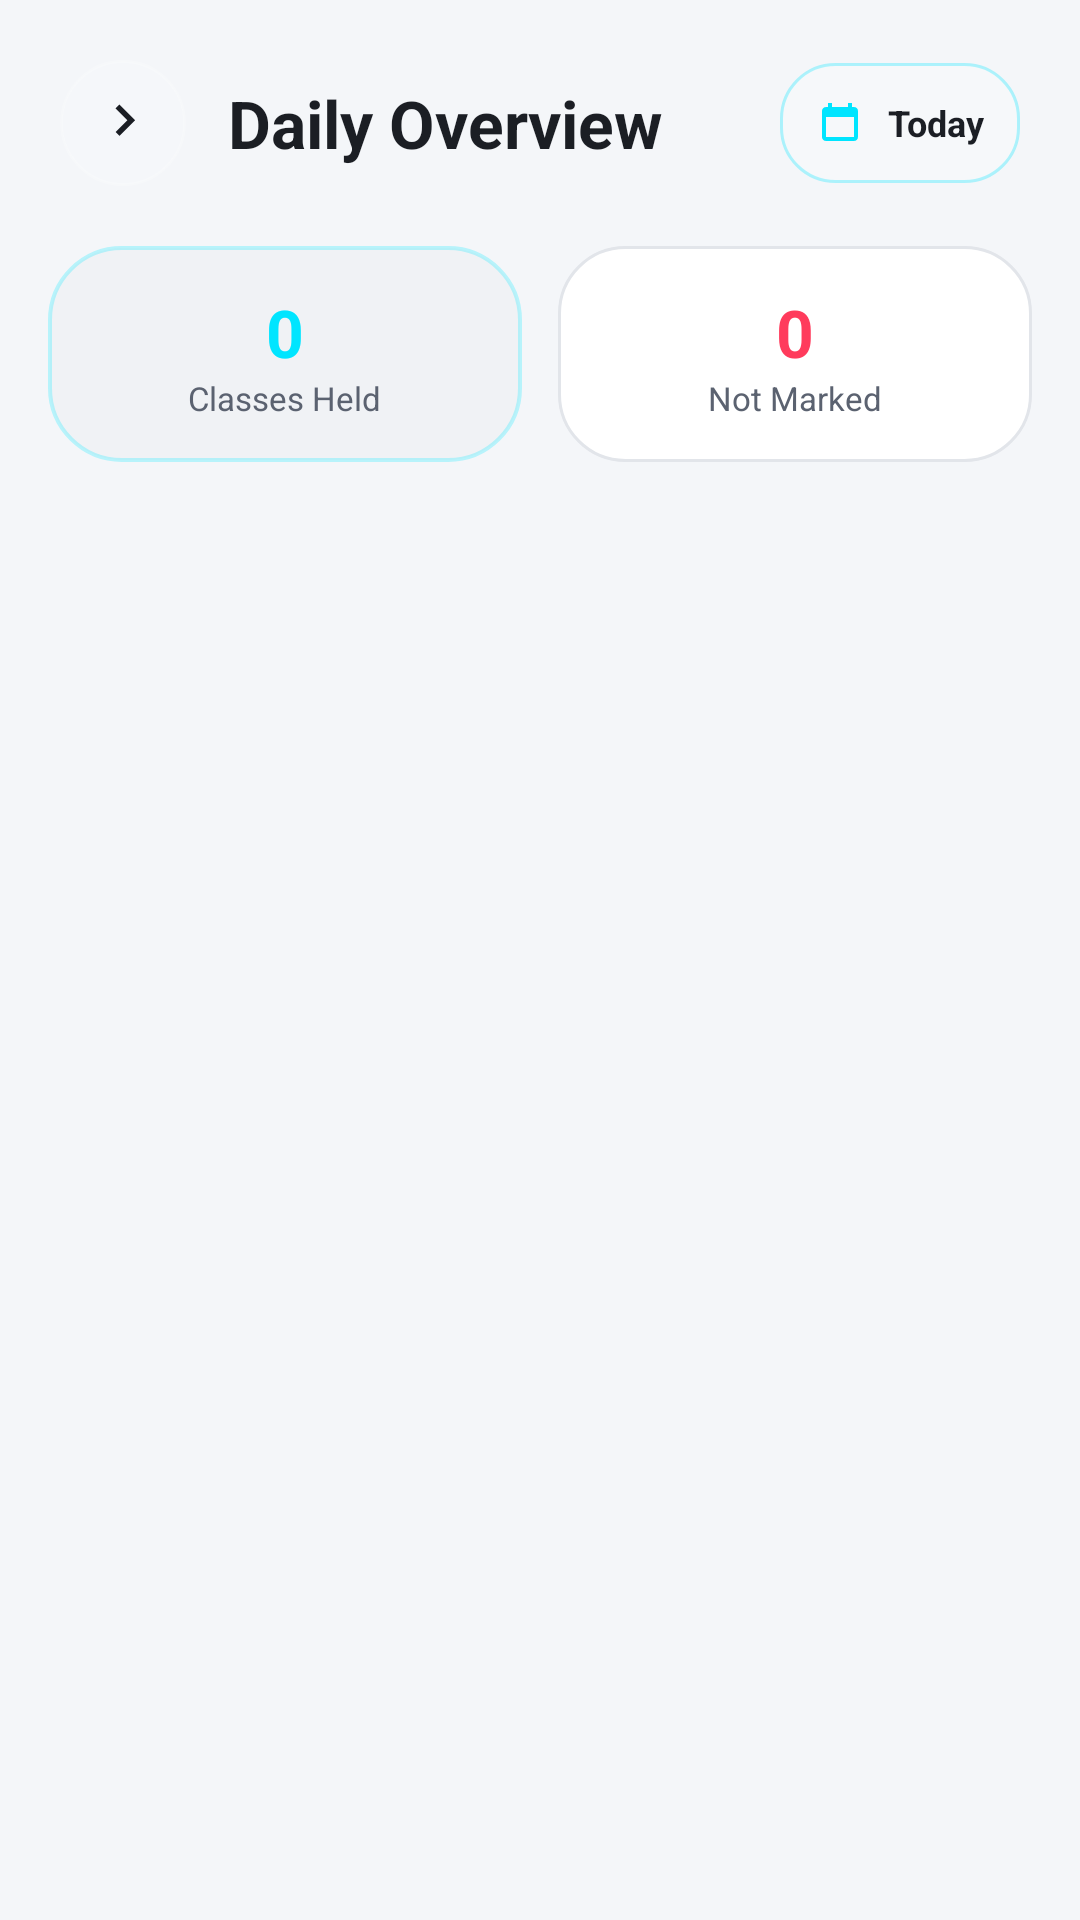

Where to tap for icons on this 1080 × 1920 app screen, as [x,y]:
arrow: [125,120]
shedule: [840,122]
